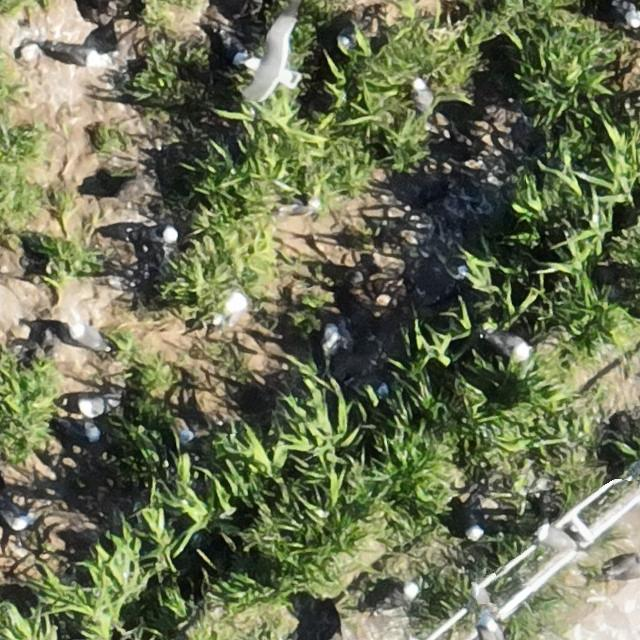F: (243, 19, 302, 99)
umineko: (488, 328, 530, 361), (47, 44, 102, 68), (377, 583, 418, 615), (217, 291, 244, 326), (1, 501, 28, 532), (72, 326, 104, 348), (322, 326, 344, 358), (476, 616, 508, 638), (536, 524, 570, 544), (468, 504, 486, 538), (413, 79, 431, 113), (79, 397, 109, 417), (160, 225, 178, 244)
